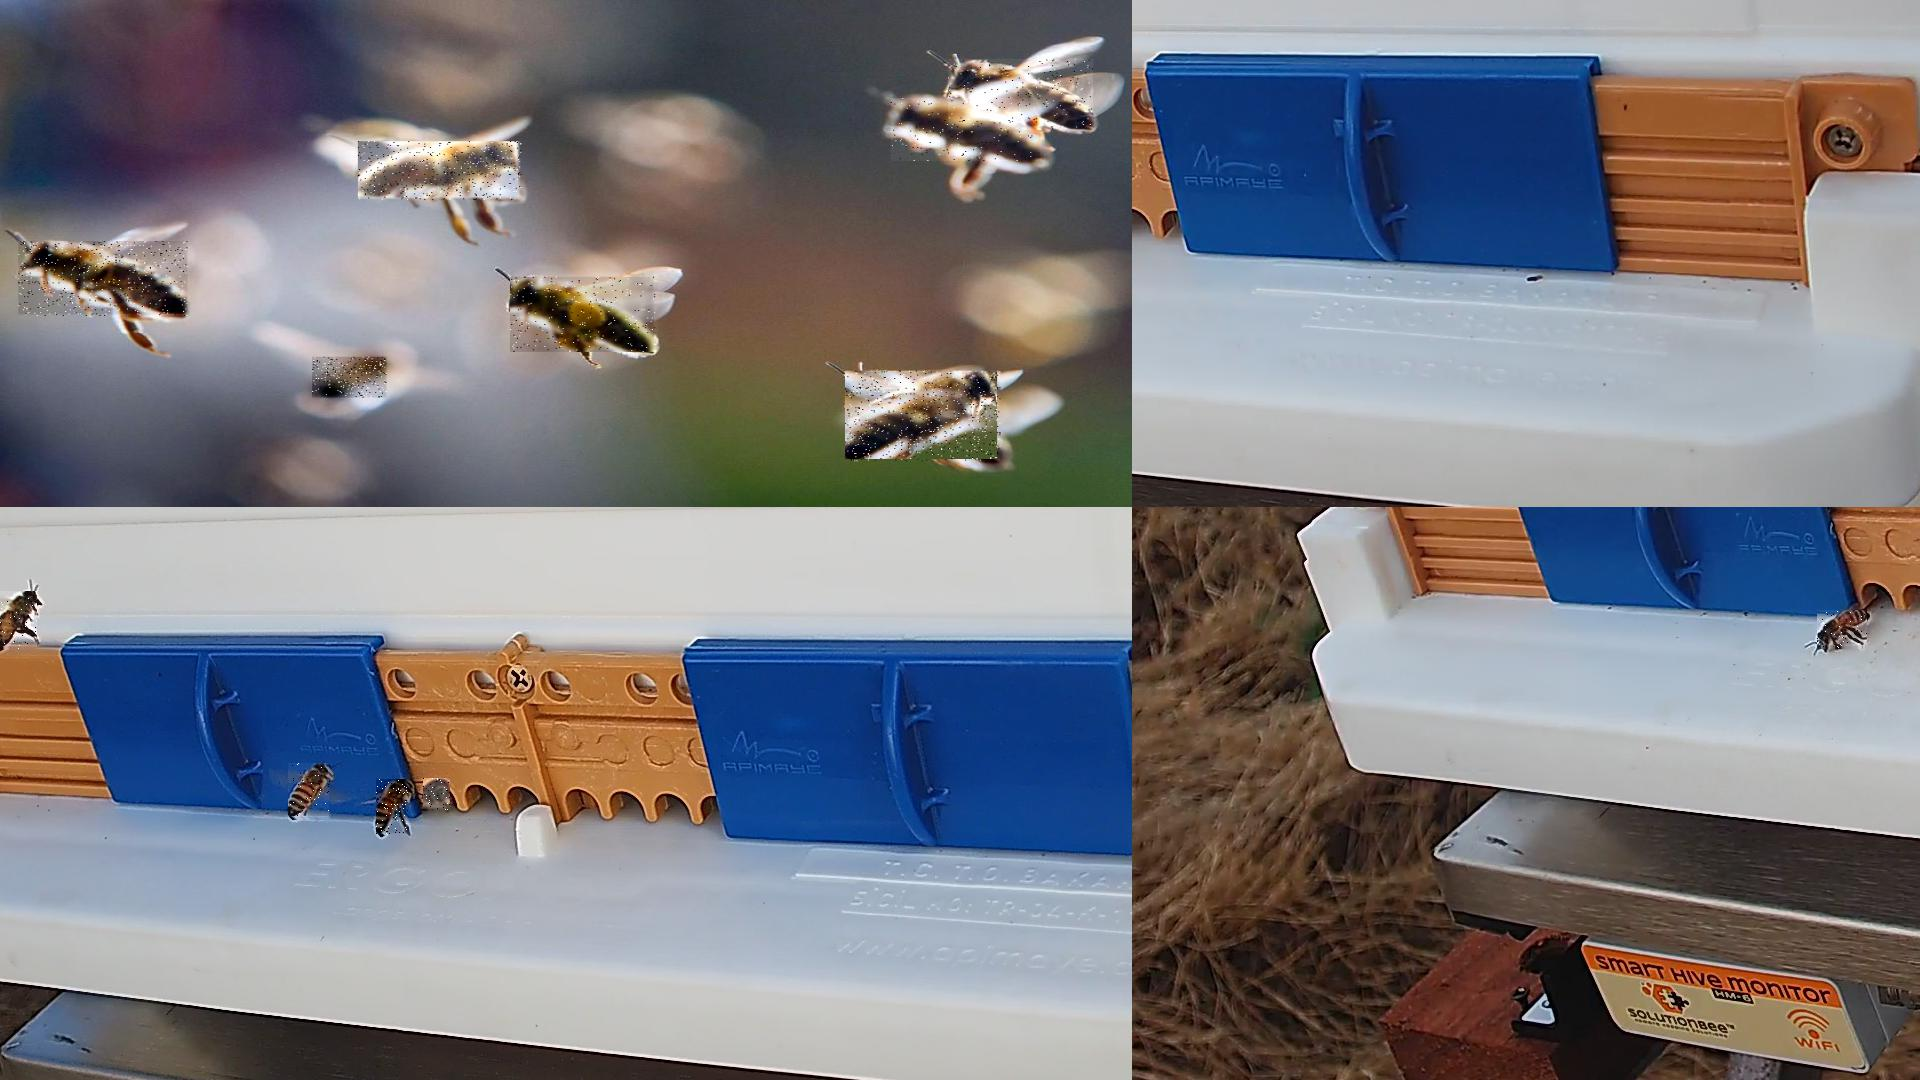bee: (845, 372, 1002, 463), (18, 241, 189, 318), (948, 59, 1095, 131), (359, 141, 524, 202), (891, 99, 1043, 162), (313, 357, 388, 398), (289, 764, 334, 820), (0, 591, 40, 651), (1817, 611, 1869, 650), (377, 779, 410, 837), (423, 779, 451, 812)
pollenbee: (510, 277, 657, 353)
